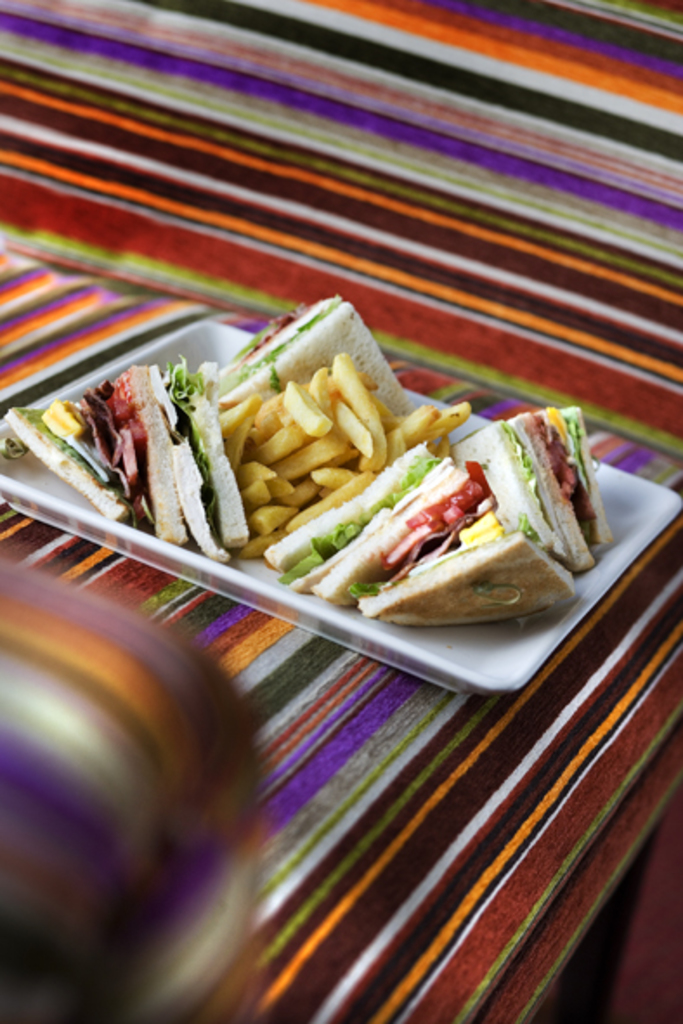French fries: (161, 341, 468, 538)
